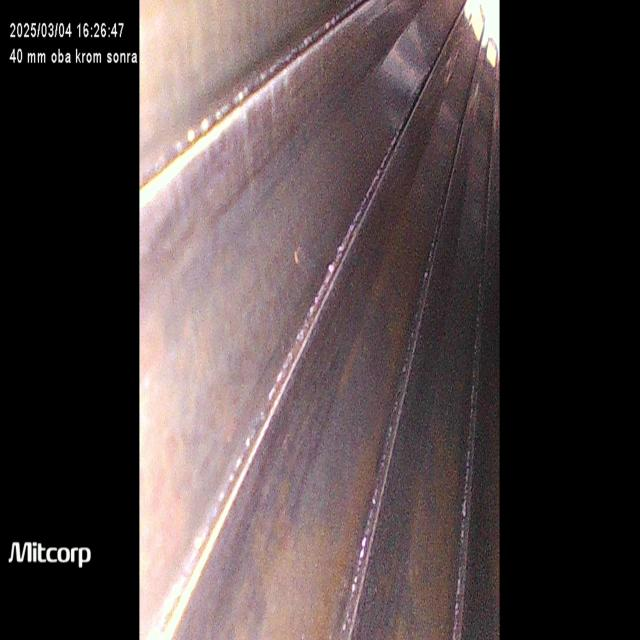hata_4.2: (214, 404, 395, 638), (338, 179, 447, 393), (383, 391, 474, 640), (285, 226, 315, 286)
